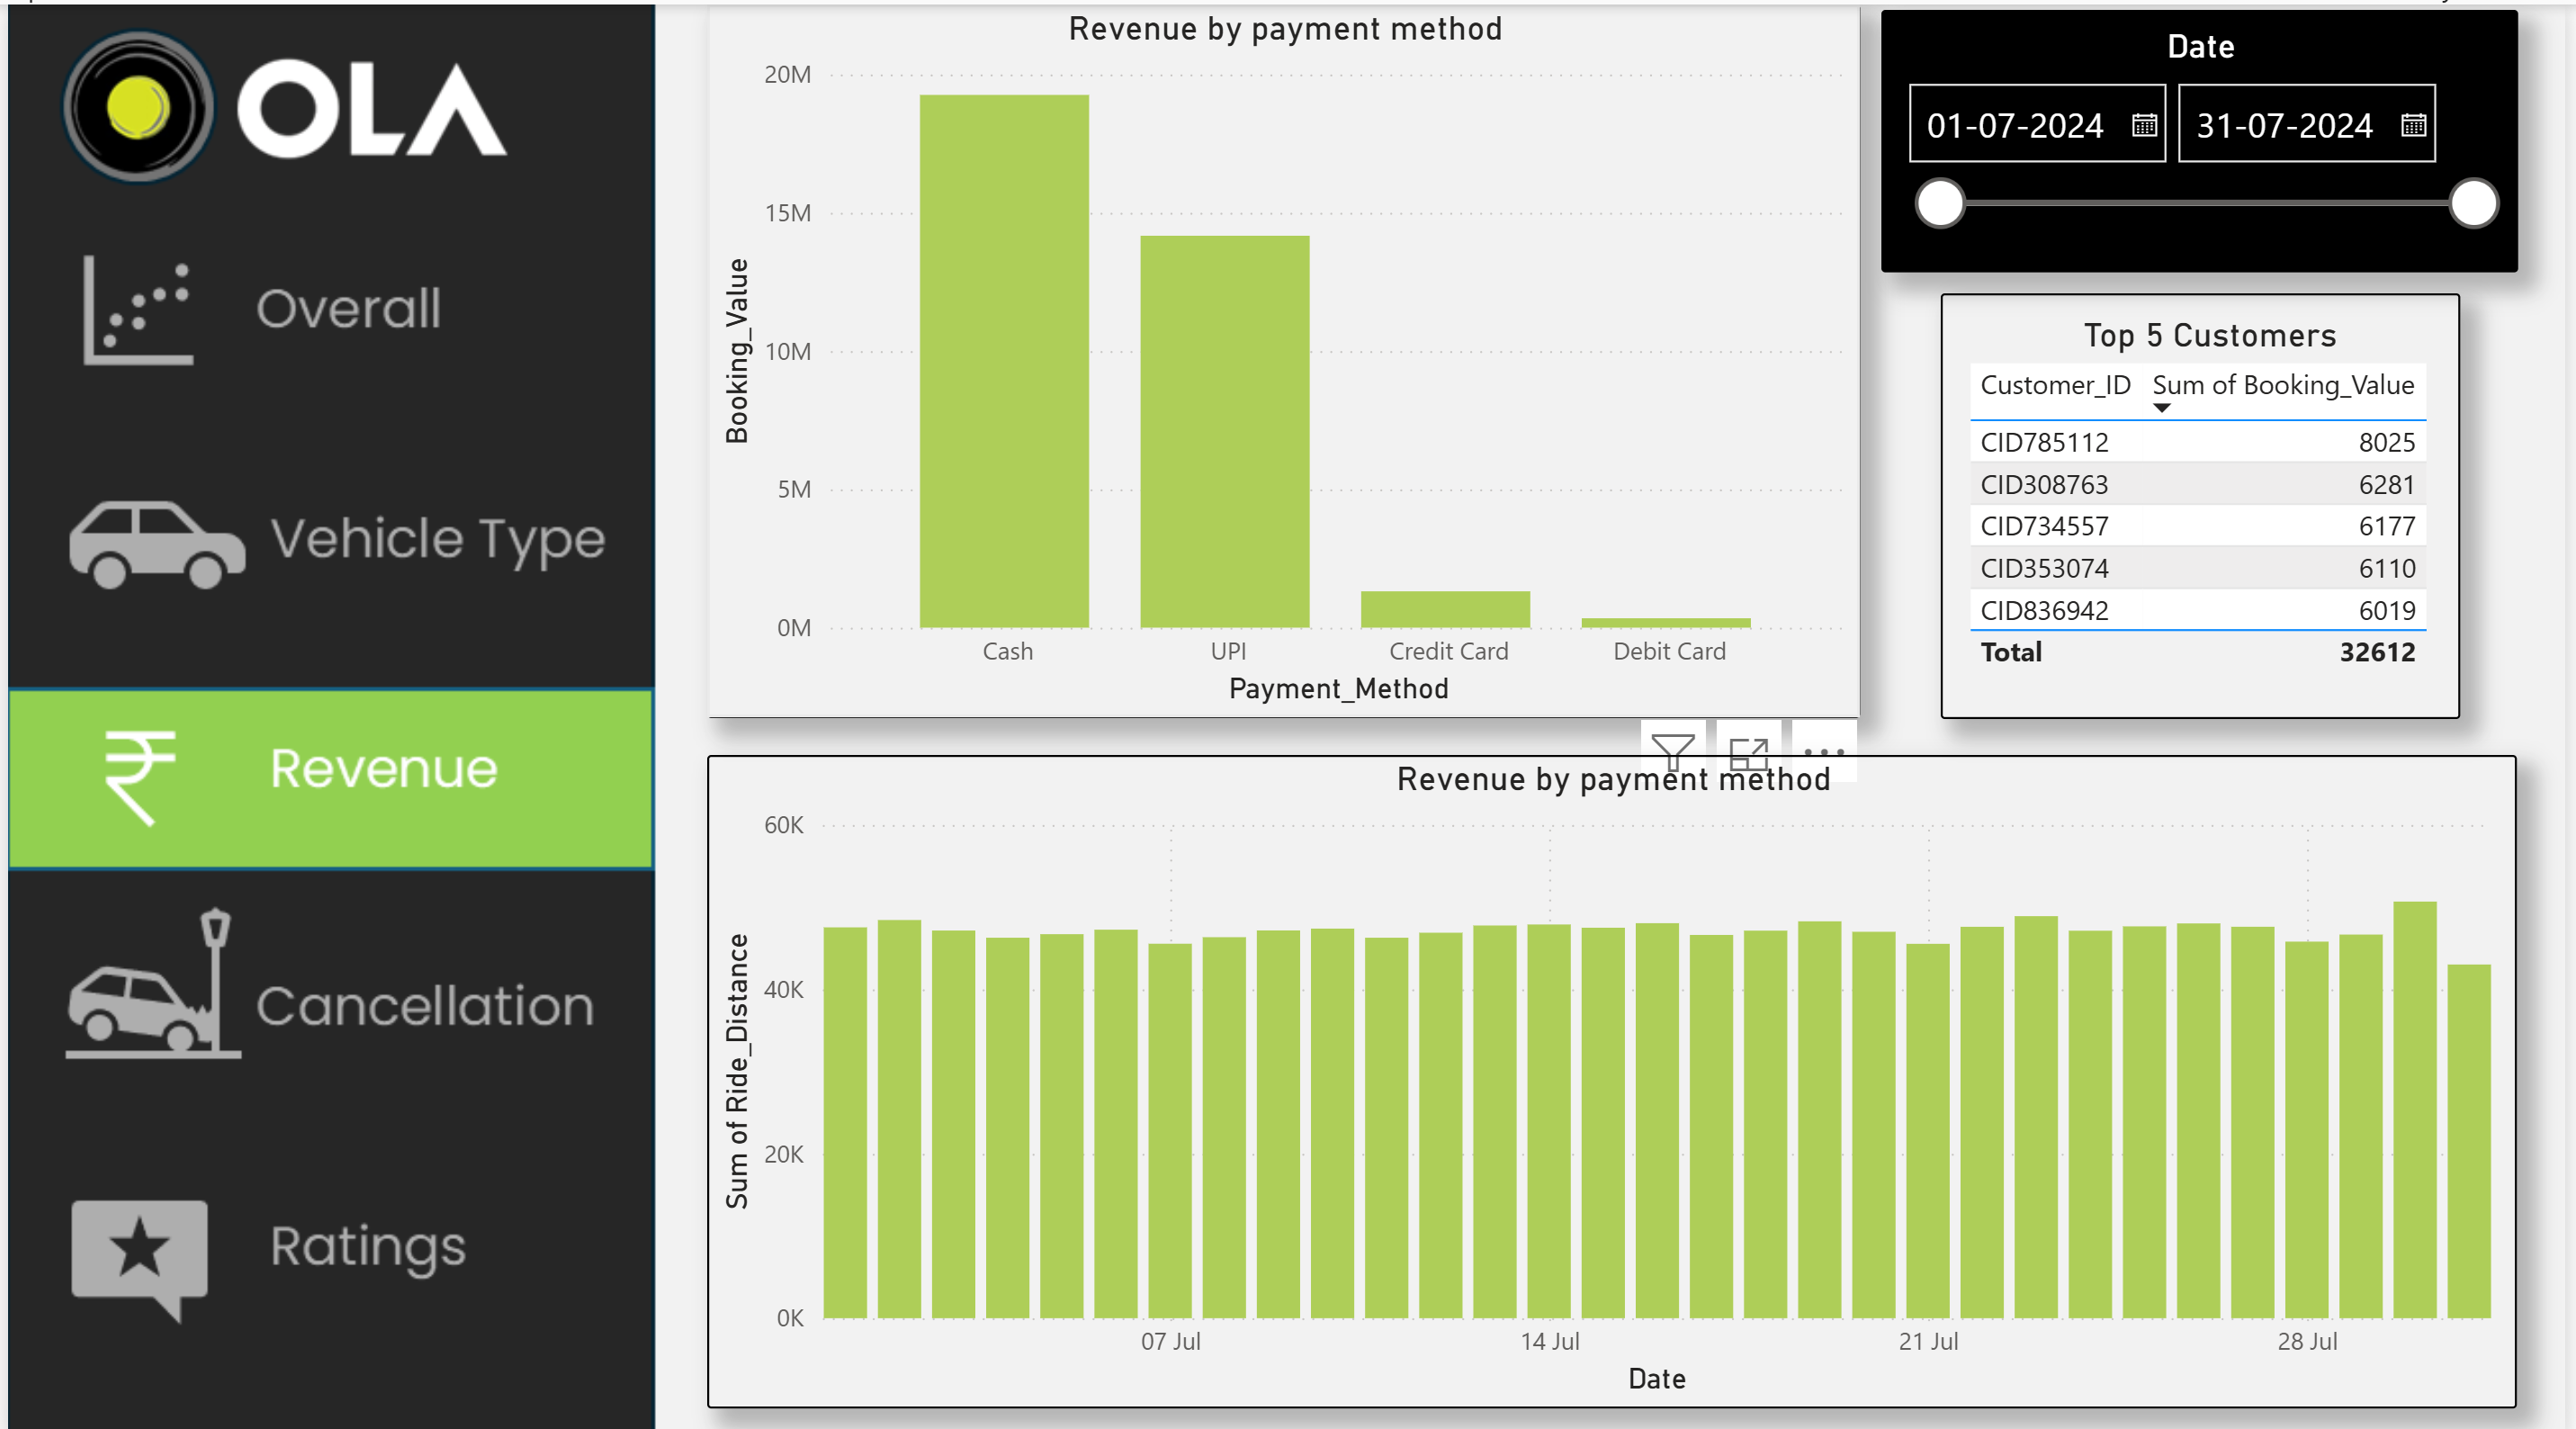

Layout of this report page (visuals, bound fields, positions):
{"tool":"powerbi","page":{"name":"Revenue","canvas":[1280,720],"ordinal":2},"visuals":[{"type":"actionButton","box":[0,111.2,326.2,91.2],"z":0},{"type":"actionButton","box":[0,571.2,326.2,91.2],"z":1000},{"type":"actionButton","box":[0,581.2,326.2,91.2],"z":2000},{"type":"actionButton","box":[0,445,326.2,91.2],"z":3000},{"type":"actionButton","box":[0,220,326.2,91.2],"z":4000},{"type":"columnChart","title":"Revenue by payment method","fields":{"Y":["Sum(July.Booking_Value)"],"Category":["July.Payment_Method"]},"box":[350,0,577.1,357.1],"z":5000},{"type":"columnChart","title":"Revenue by payment method","fields":{"Y":["Sum(July.Ride_Distance)"],"Category":["July.Date"]},"box":[350,375.7,905.7,327.1],"z":6000},{"type":"slicer","title":"Date","fields":{"Values":["July.Date"]},"box":[937.1,2.9,318.6,131.4],"z":7000},{"type":"tableEx","title":"Top 5 Customers","fields":{"Values":["July.Customer_ID","Sum(July.Booking_Value)"]},"box":[967.1,144.3,260,212.9],"z":8000}]}

Visuals, with their boxes in screenshot pixels (x1, y1, x2, y2), scaled from the page's 1280x720 canvas onto the 2576x1429 screenshot:
actionButton: crop(0, 220, 657, 401)
actionButton: crop(0, 1134, 657, 1315)
actionButton: crop(0, 1154, 657, 1335)
actionButton: crop(0, 883, 657, 1065)
actionButton: crop(0, 436, 657, 617)
"Revenue by payment method" columnChart: crop(705, 0, 1866, 709)
"Revenue by payment method" columnChart: crop(705, 746, 2527, 1395)
"Date" slicer: crop(1886, 5, 2527, 266)
"Top 5 Customers" tableEx: crop(1946, 286, 2470, 709)
